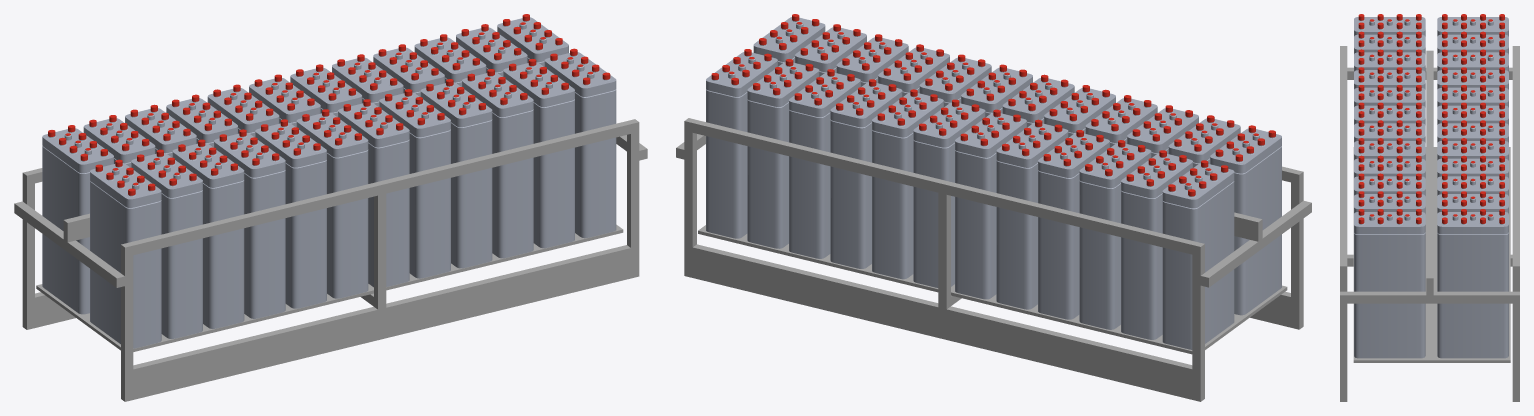
The picture shows the model from 3 angles, left to right: view 1: azimuth 30°, elevation 25°; view 2: azimuth 150°, elevation 25°; view 3: azimuth 270°, elevation 25°; orthographic projection. The views are drawn at different scales.
Visible parts, largest first — view 1: Box006; view 2: Box006; view 3: Box006.
Boxes of the visible parts, x1,y1,x2,y2 form: Box006: (14, 14, 647, 401); Box006: (676, 14, 1311, 401); Box006: (1340, 14, 1519, 401).
Size of the model in its own units: 1.98 by 0.7084 by 0.6623.
